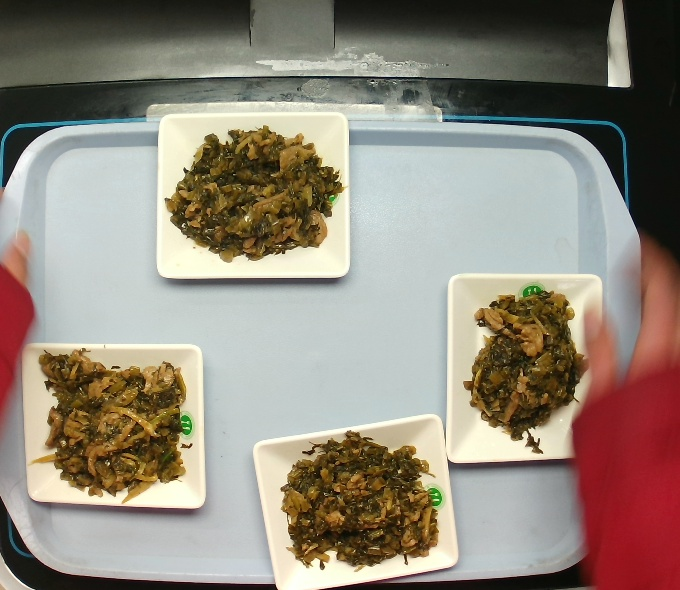wcq-XueCaiRouSi: (33, 342, 190, 507), (270, 433, 443, 567), (460, 282, 590, 456), (167, 127, 335, 261)
